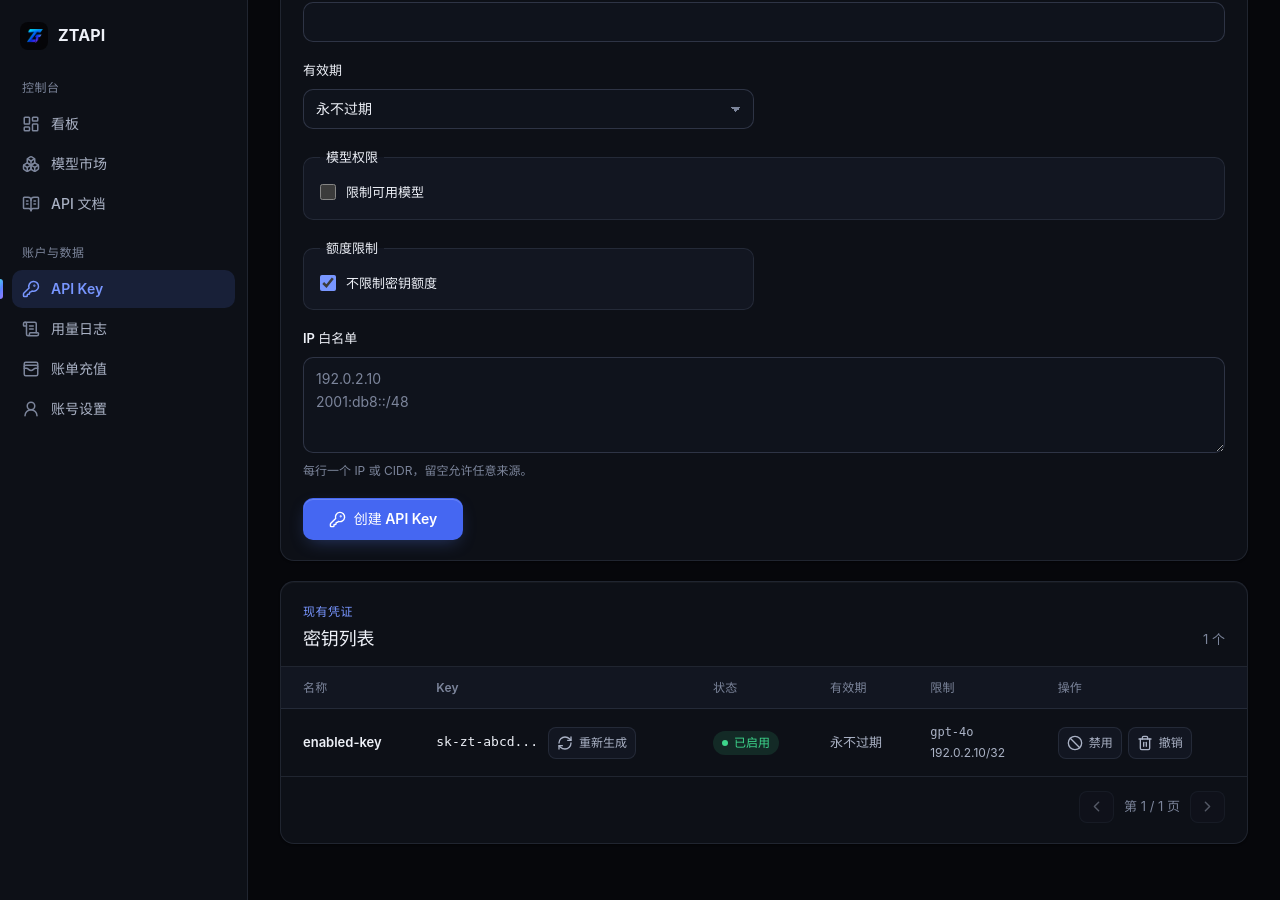
ZTAPI one-time API keys › regenerates a hash-only key after confirmation and shows the new key
This screenshot has width=1280, height=900.
(page scrolled)
Expected: the text "enabled-key" is shown, [303,734,382,750]
Expected: the button "复制" is not shown
Click the button with aria-label "重新生成 enabled-key 的 Key" at (592, 742), box [548,726,636,758]
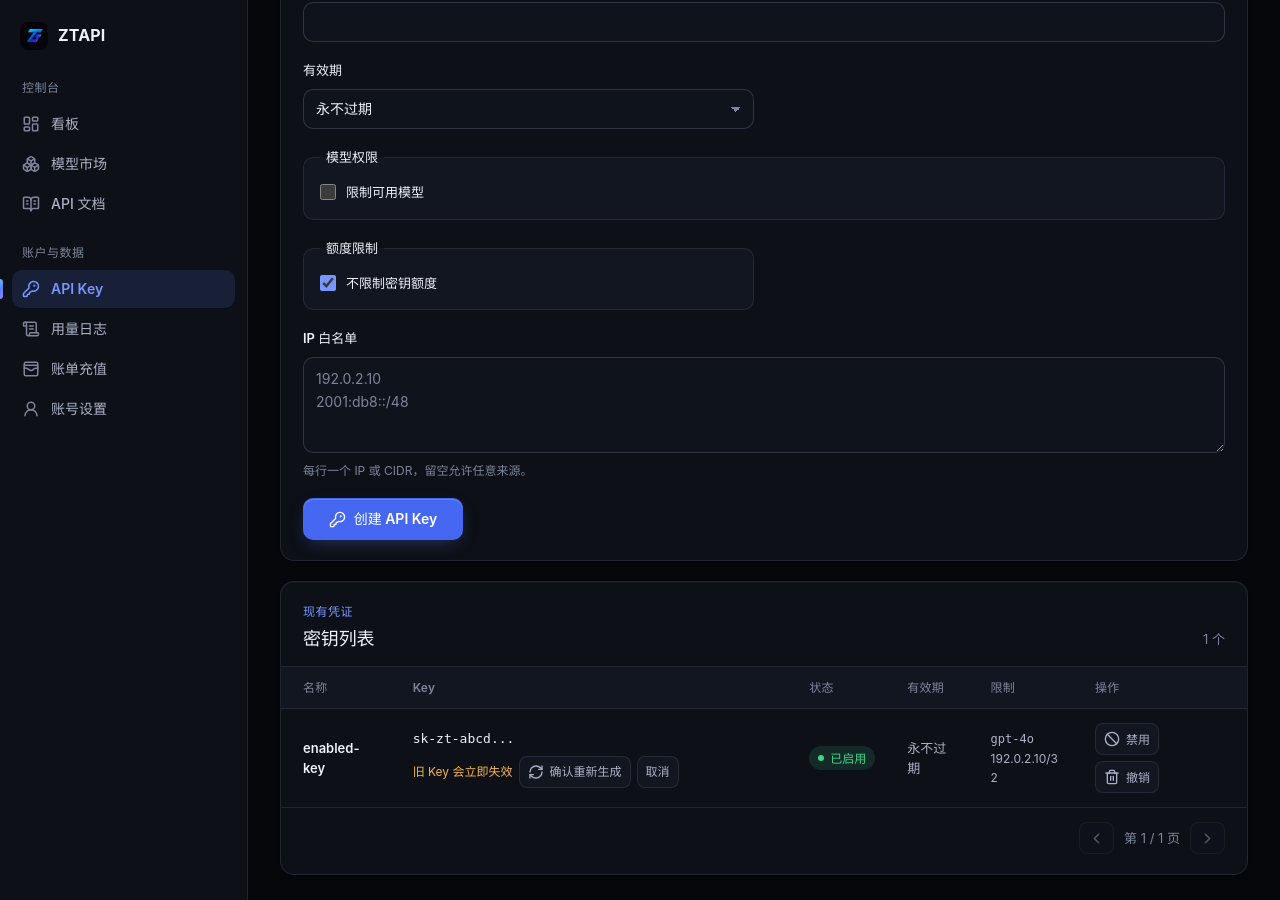
Expected: the text "旧 Key 会立即失效" is shown, [413,762,512,781]
Click the button "确认重新生成" at (574, 772), box [518,756,630,788]
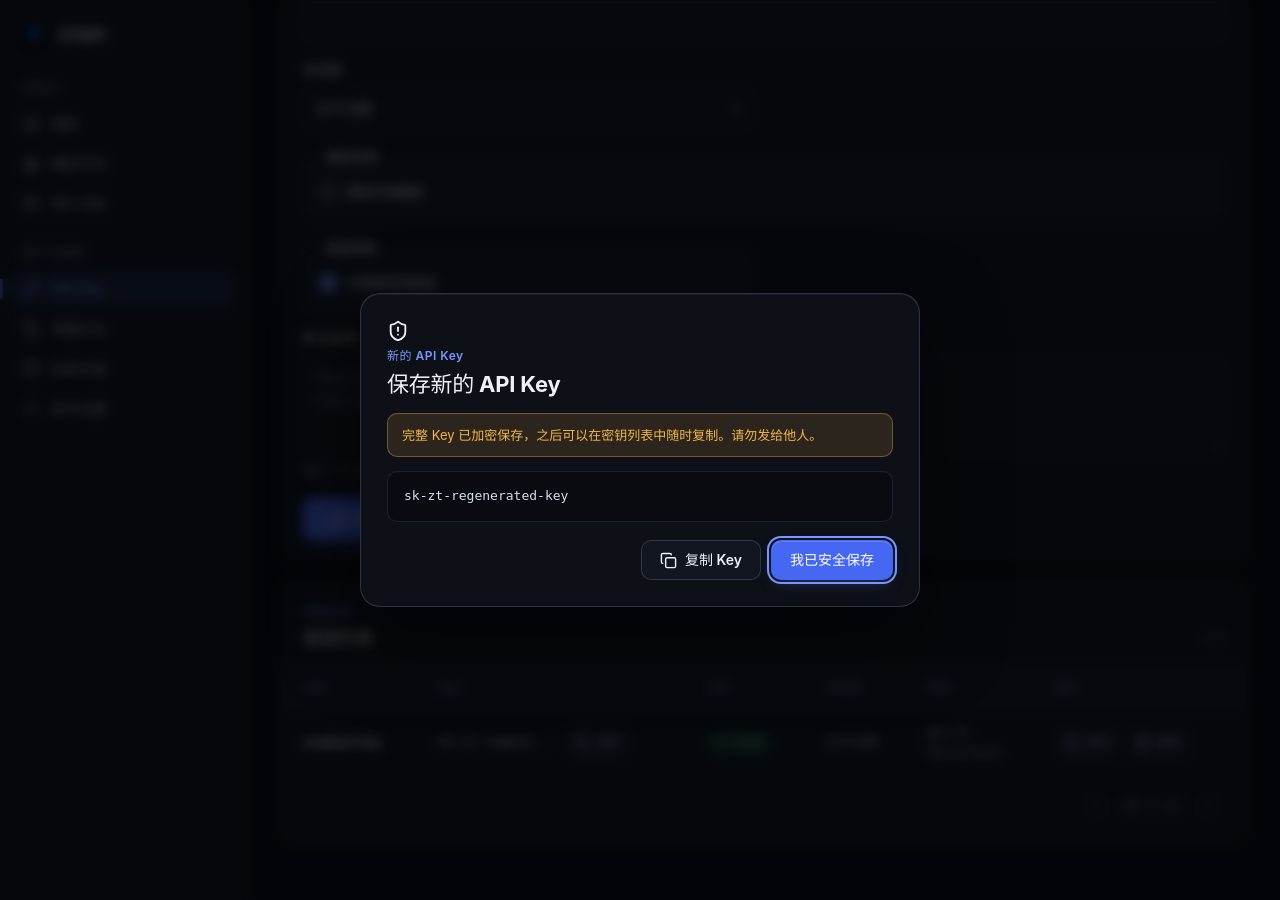
Expected: the text "sk-zt-regenerated-key" is shown, [387,471,893,522]
Expected: the text "完整 Key 已加密保存，之后可以在密钥列表中随时复制。请勿发给他人。" is shown, [387,412,893,457]
Click the button "我已安全保存" at (832, 560), box [771,540,893,580]
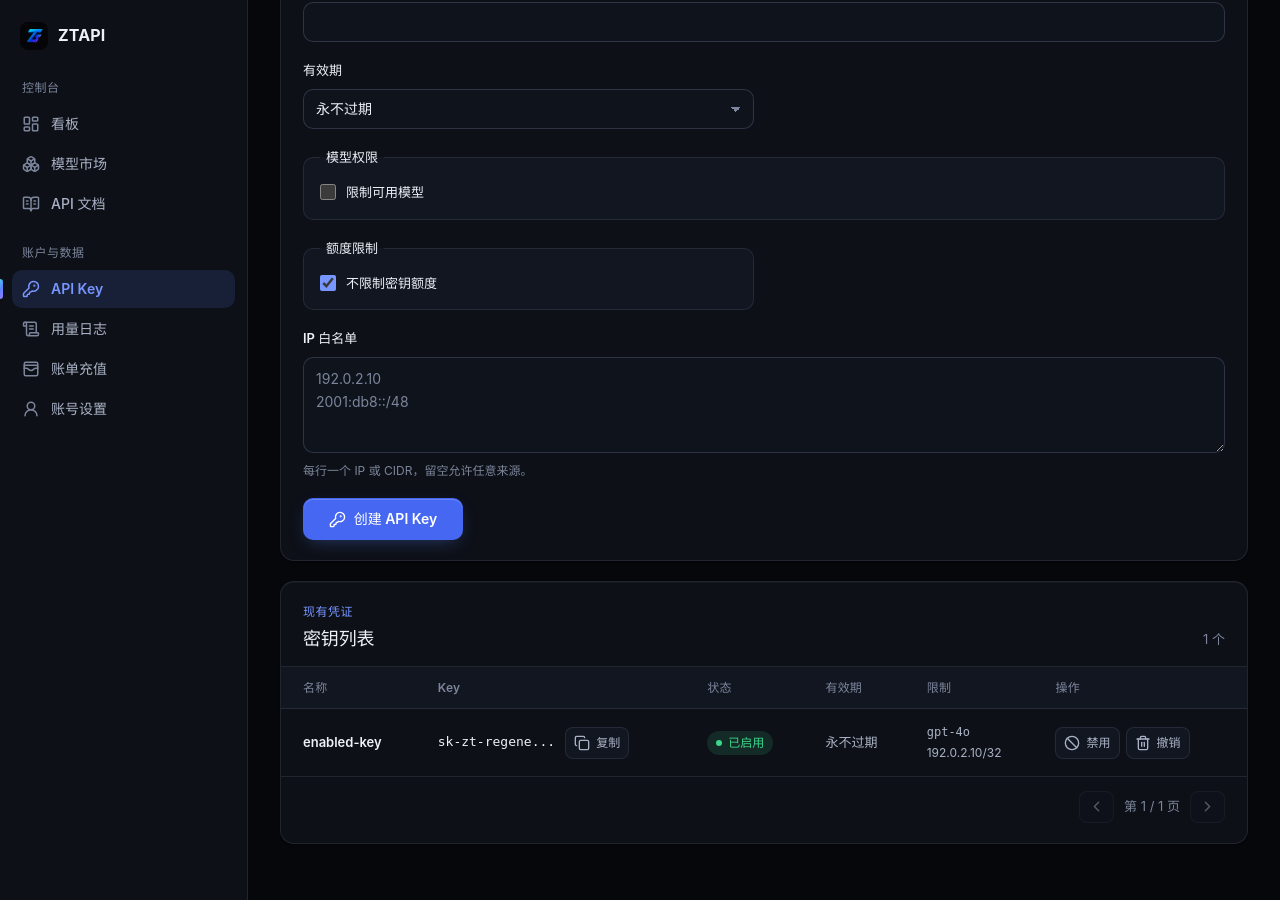
Expected: the text "sk-zt-regene..." is shown, [438,732,555,753]
Expected: the button with aria-label "复制 enabled-key 的完整 Key" is shown, [565,726,629,758]
Expected: the text "sk-zt-regenerated-key" is gone
